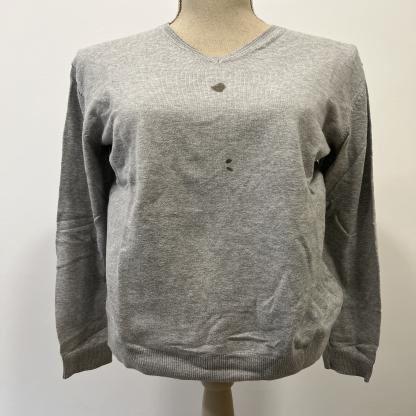stain: (206, 81, 230, 94), (224, 165, 236, 173), (224, 157, 233, 166)
